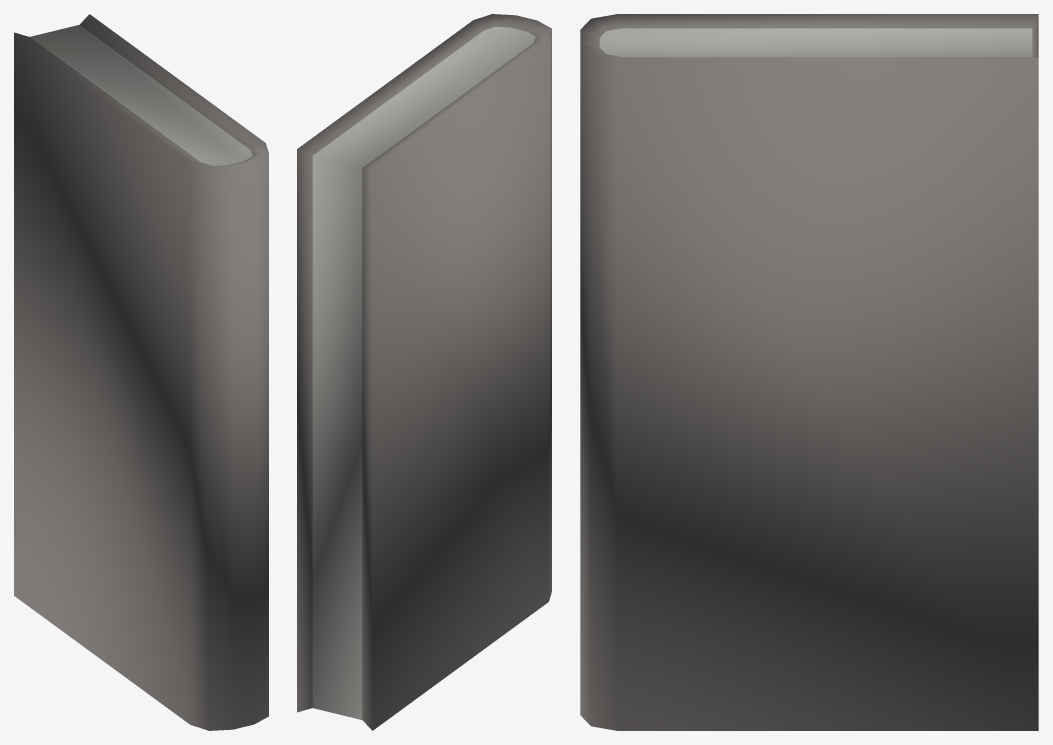
The model's file is Assets.fbx_Book_1.fbx.
3 views of the same model, side by side, from view 1: azimuth 30°, elevation 25°; view 2: azimuth 150°, elevation 25°; view 3: azimuth 270°, elevation 25° (orthographic). The views are drawn at different scales.
Parts seen in each view (by area): view 1: Book 1; view 2: Book 1; view 3: Book 1.
Part boxes in pixels (x1=…): Book 1: x1=14, y1=14, x2=268, y2=730; Book 1: x1=297, y1=14, x2=551, y2=730; Book 1: x1=580, y1=14, x2=1038, y2=730.
Bounding box in the file's own units: 4.52 × 32.23 × 19.91.
